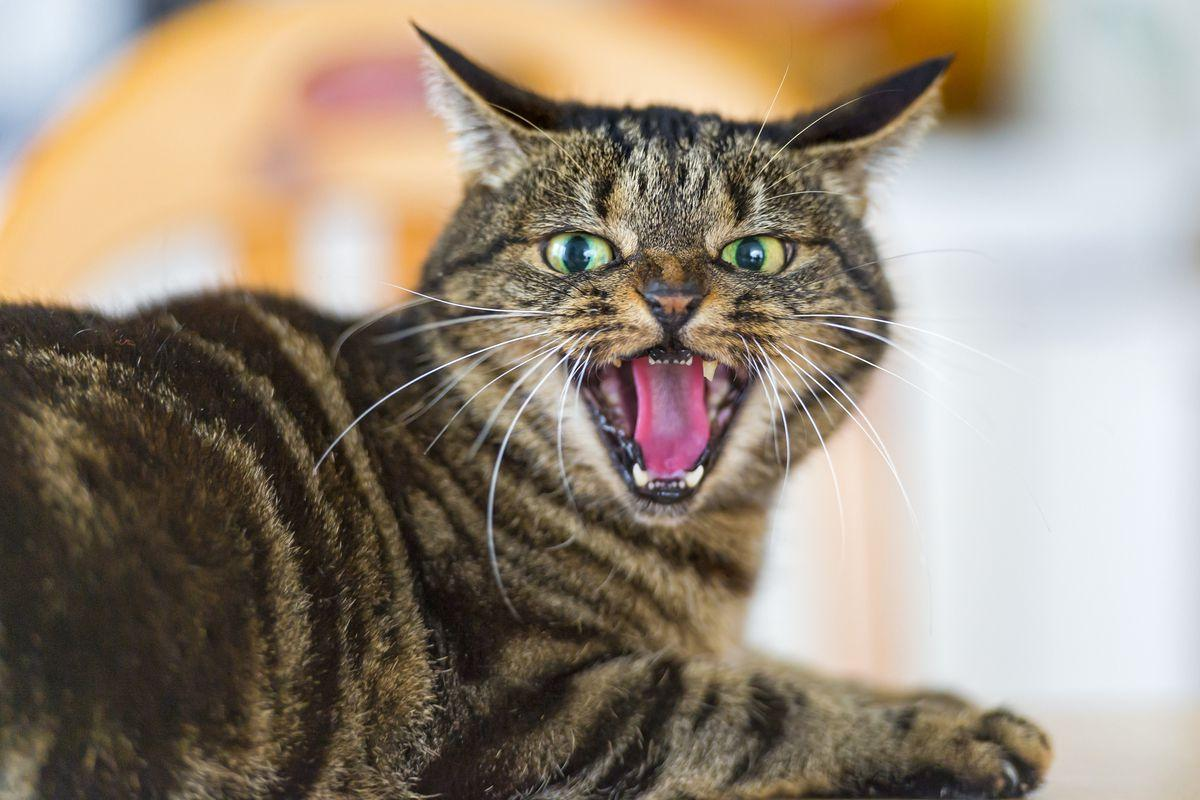Cat: (398, 11, 969, 523)
